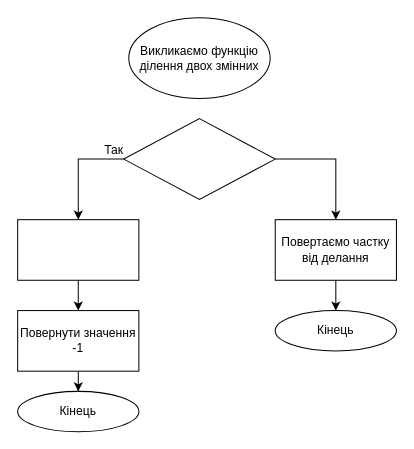
The diagram is 414 pixels wide and 449 high, and some of its shapes have lost their labels. Each missing label, with the centre of its shape:
Сповістити про помилку: point 78,249
Якщо знаменник == 0: point 199,158
